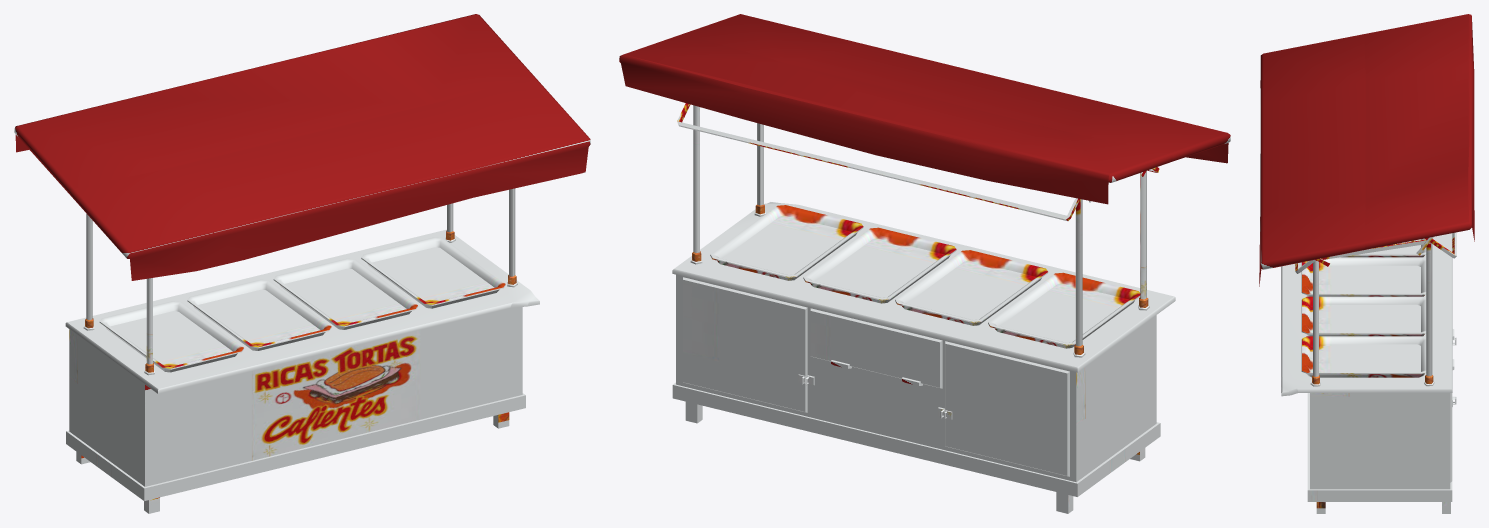
File: Puesto_tortas_textura.obj
3 views of the same model, side by side, from view 1: azimuth 30°, elevation 25°; view 2: azimuth 150°, elevation 25°; view 3: azimuth 270°, elevation 25° (orthographic). The views are drawn at different scales.
Visible parts, largest first — view 1: carrito_v2; view 2: carrito_v2; view 3: carrito_v2.
Boxes of the visible parts, x1,y1,x2,y2 form: carrito_v2: (14,14,590,513); carrito_v2: (619,14,1230,513); carrito_v2: (1259,14,1474,513).
Size of the model in its own units: 10 by 6.98 by 4.33.
